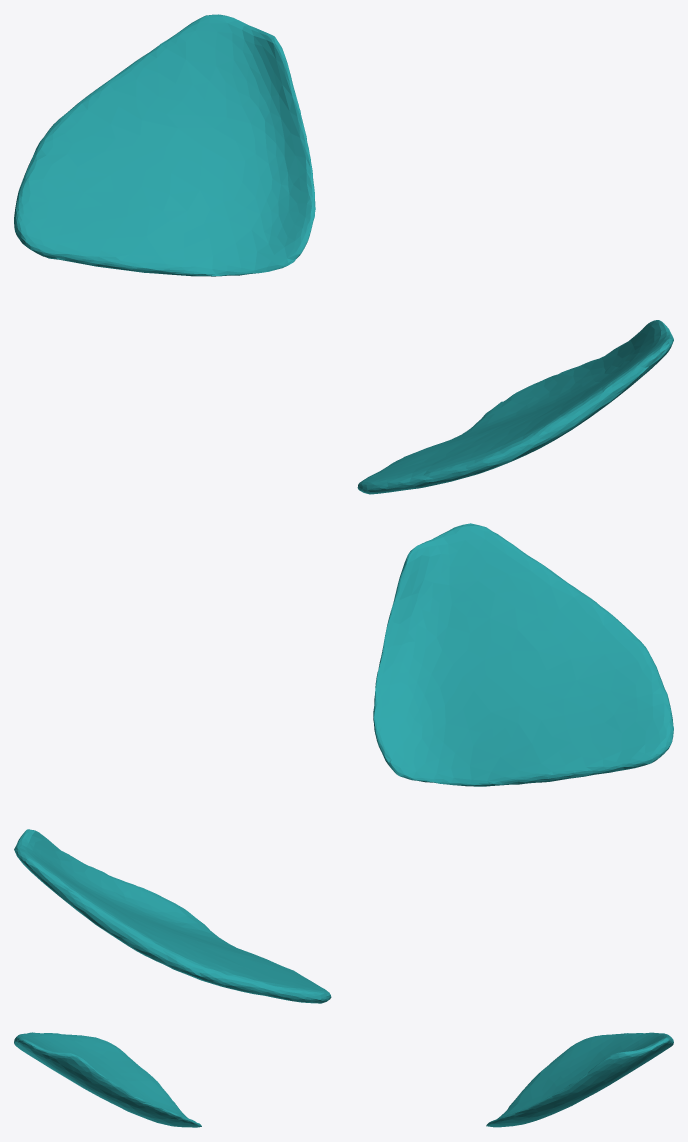
3 renders of one model, top to bottom at view 1: azimuth 30°, elevation 25°; view 2: azimuth 150°, elevation 25°; view 3: azimuth 270°, elevation 25°, orthographic. The views are drawn at different scales.
Visible parts, largest first — view 1: 721.obj; view 2: 721.obj; view 3: 721.obj.
Boxes of the visible parts, x1=… form: 721.obj: x1=14, y1=14, x2=673, y2=494; 721.obj: x1=14, y1=523, x2=673, y2=1003; 721.obj: x1=14, y1=1032, x2=673, y2=1127.
Bounding box in the file's own units: 2361 × 1260 × 6818.
